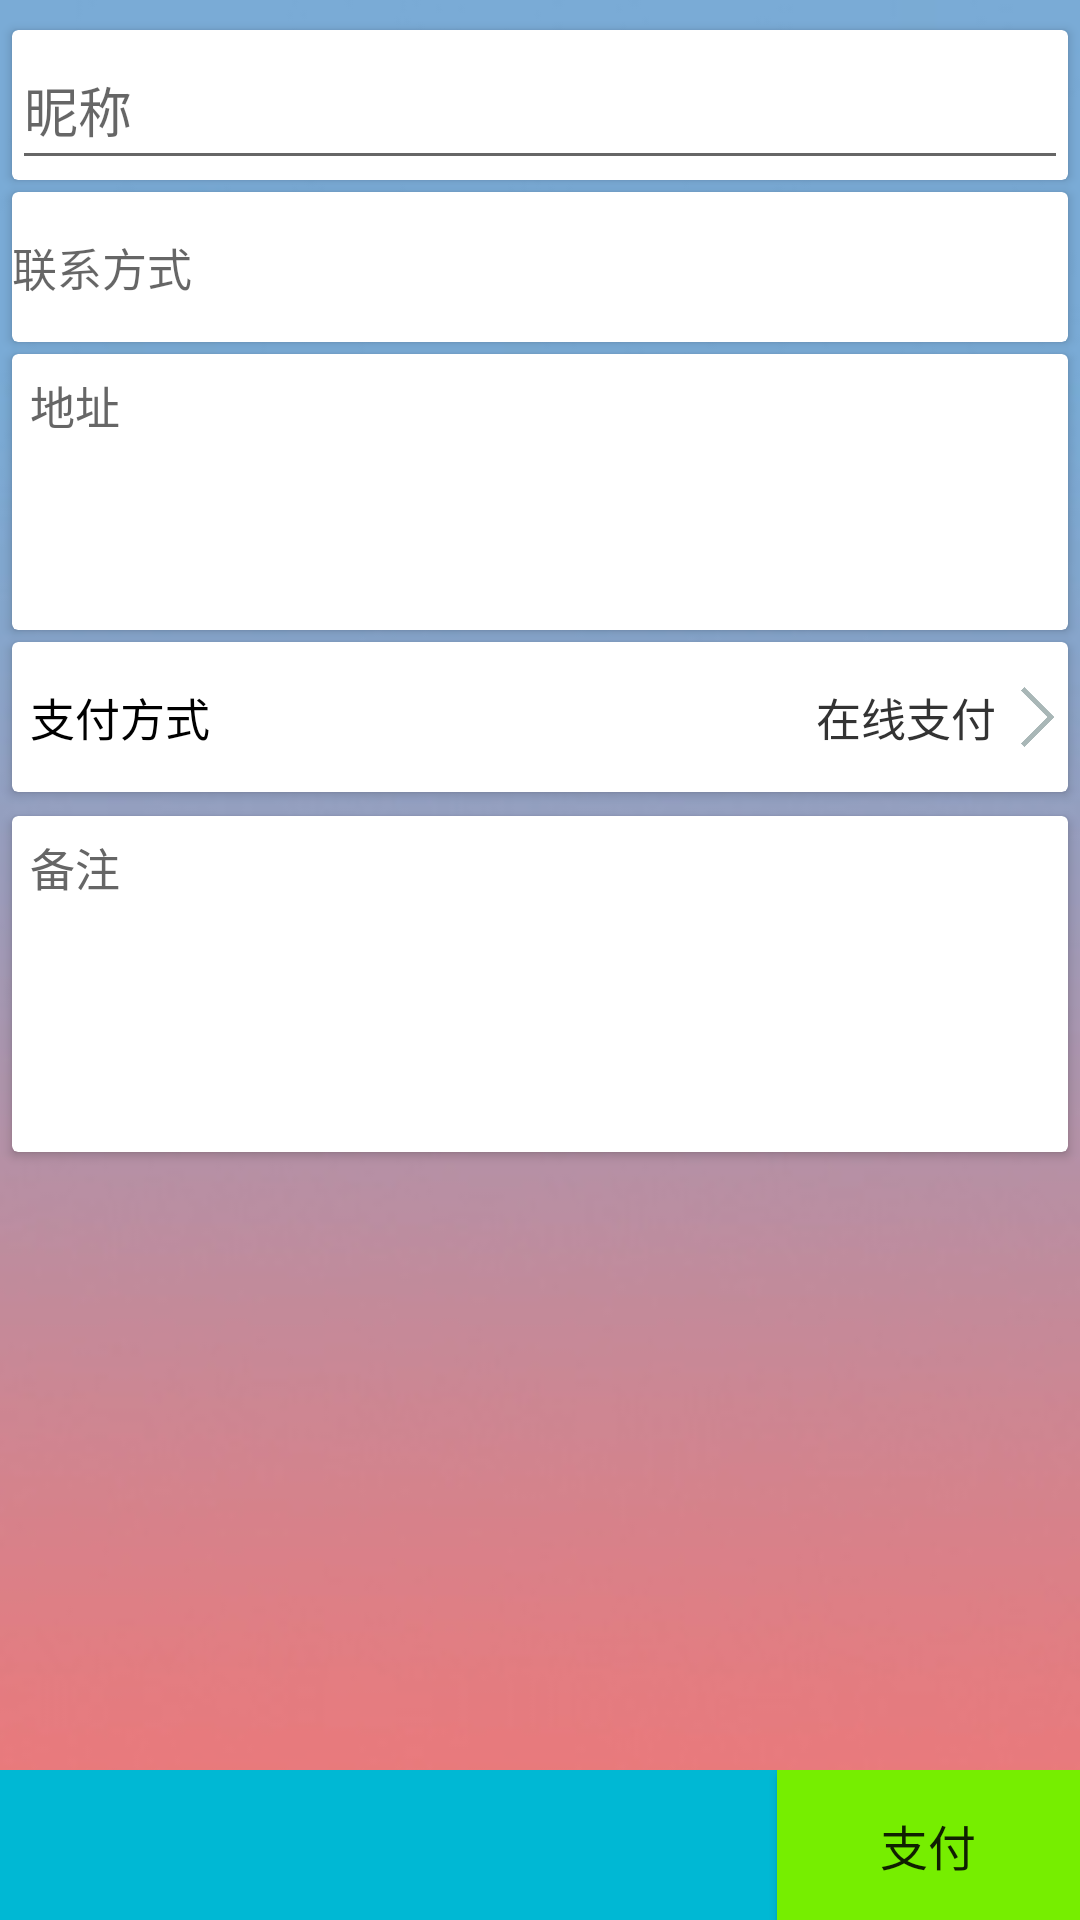

Icons on this 1080 x 1920 Android screen, each with its box as (x1=x1, y1=y1, x2=x2, y2=y2):
arrow right: (x1=1021, y1=687, x2=1054, y2=747)
